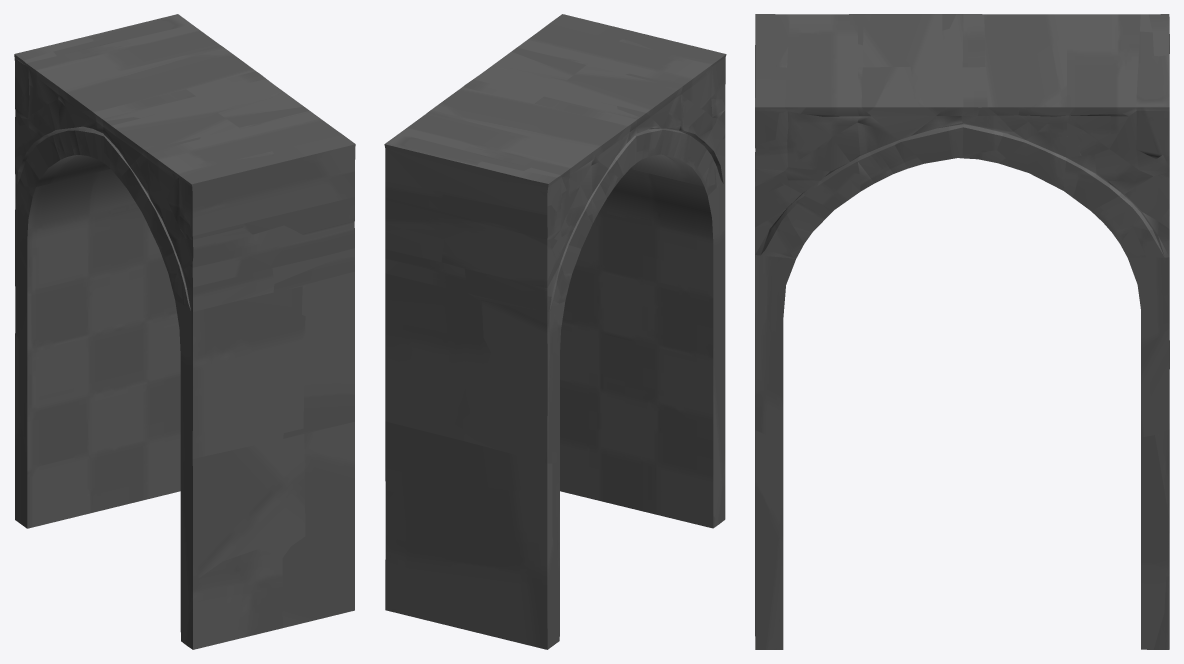
Rendered from SM_GongMen02_b984e6.glb.
3 views of the same model, side by side, from view 1: azimuth 30°, elevation 25°; view 2: azimuth 150°, elevation 25°; view 3: azimuth 270°, elevation 25° (orthographic). The views are drawn at different scales.
Visible parts, largest first — view 1: SM_GongMen02; view 2: SM_GongMen02; view 3: SM_GongMen02.
Part boxes in pixels (x1=…): SM_GongMen02: x1=14, y1=14, x2=355, y2=649; SM_GongMen02: x1=384, y1=14, x2=726, y2=649; SM_GongMen02: x1=755, y1=14, x2=1169, y2=649.
Size of the model in its own units: 1.78 by 4.82 by 3.34.
1 material, 1 textured.
